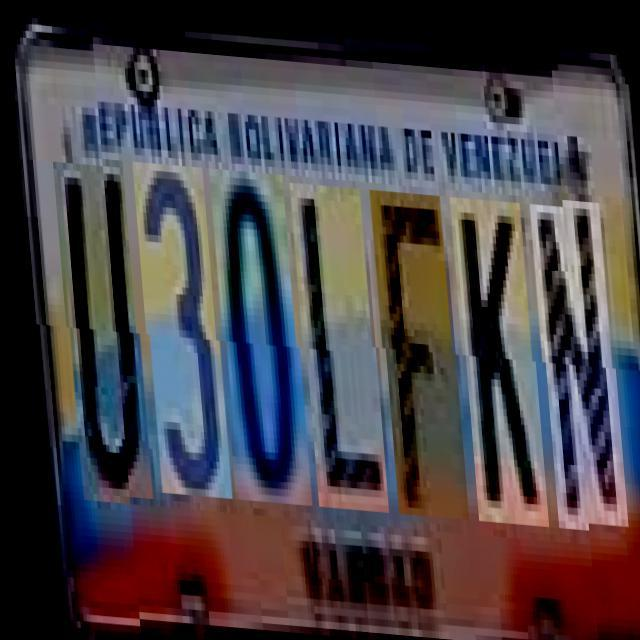3: (133, 160, 224, 496)
F: (370, 184, 461, 512)
K: (450, 189, 541, 517)
L: (290, 178, 381, 506)
N: (530, 195, 621, 523)
O: (210, 165, 304, 501)
U: (53, 154, 145, 497)
